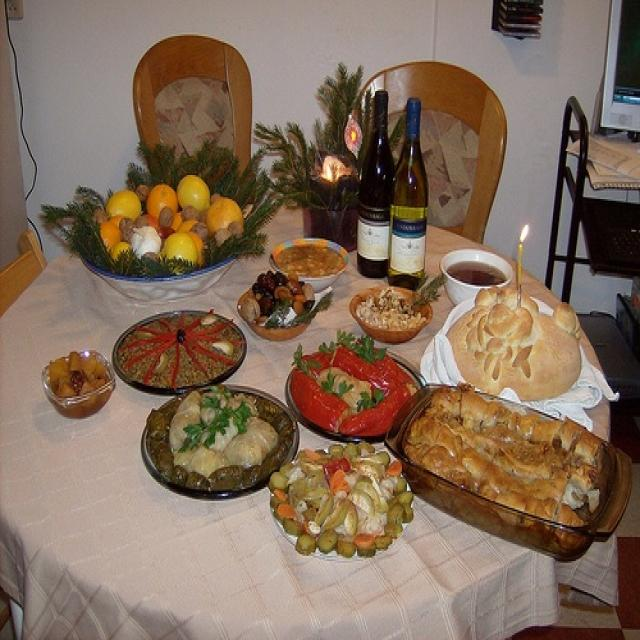bottle: (389, 94, 432, 288), (358, 89, 390, 284)
chair: (346, 58, 508, 264), (127, 30, 268, 217)
diningtable: (4, 187, 614, 633)
